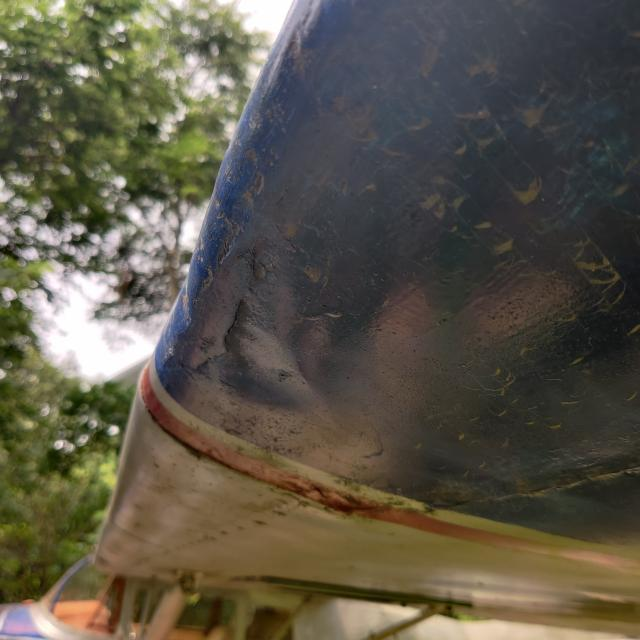dent: (203, 280, 342, 442)
